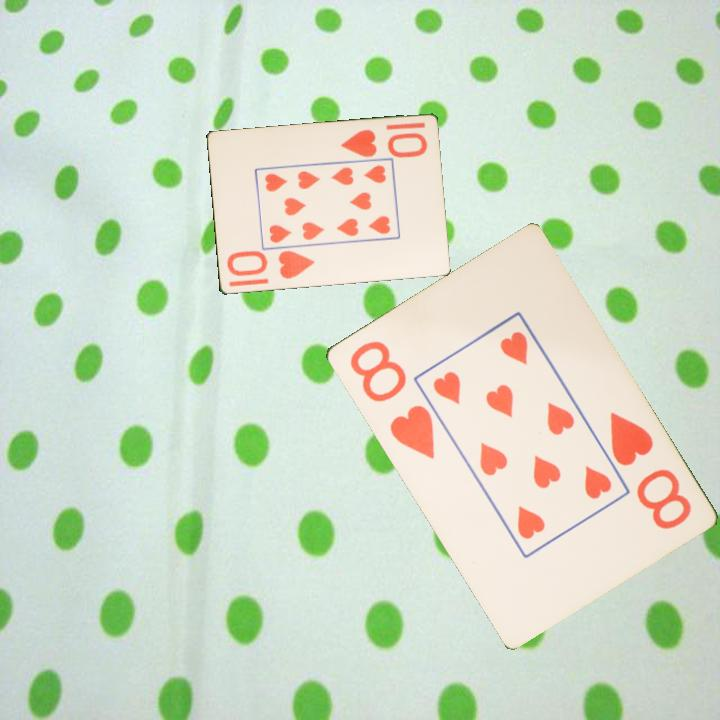10h: (223, 247, 317, 282), (337, 126, 430, 160)
8h: (345, 336, 438, 463), (605, 408, 694, 533)
